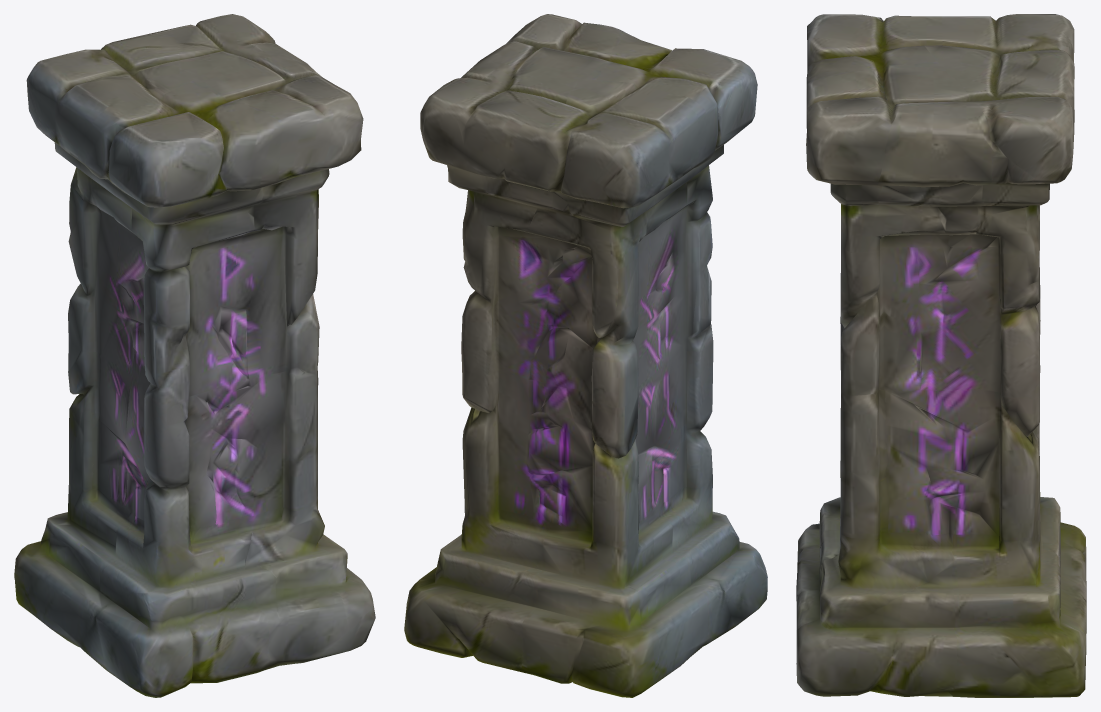
The model's file is pillar.glb.
3 views of the same model, side by side, from view 1: azimuth 30°, elevation 25°; view 2: azimuth 150°, elevation 25°; view 3: azimuth 270°, elevation 25° (orthographic). The views are drawn at different scales.
Parts seen in each view (by area): view 1: tripo_node_fbbf90d5-e34e-4bec-865d-74e3fc5cf188; view 2: tripo_node_fbbf90d5-e34e-4bec-865d-74e3fc5cf188; view 3: tripo_node_fbbf90d5-e34e-4bec-865d-74e3fc5cf188.
Boxes of the visible parts, left/top/right/bottom form: tripo_node_fbbf90d5-e34e-4bec-865d-74e3fc5cf188: left=14, top=14, right=375, bottom=697; tripo_node_fbbf90d5-e34e-4bec-865d-74e3fc5cf188: left=404, top=14, right=767, bottom=697; tripo_node_fbbf90d5-e34e-4bec-865d-74e3fc5cf188: left=796, top=14, right=1086, bottom=697.
Size of the model in its own units: 1.35 by 3 by 1.36.
Materials: 1 (1 with a texture image).
